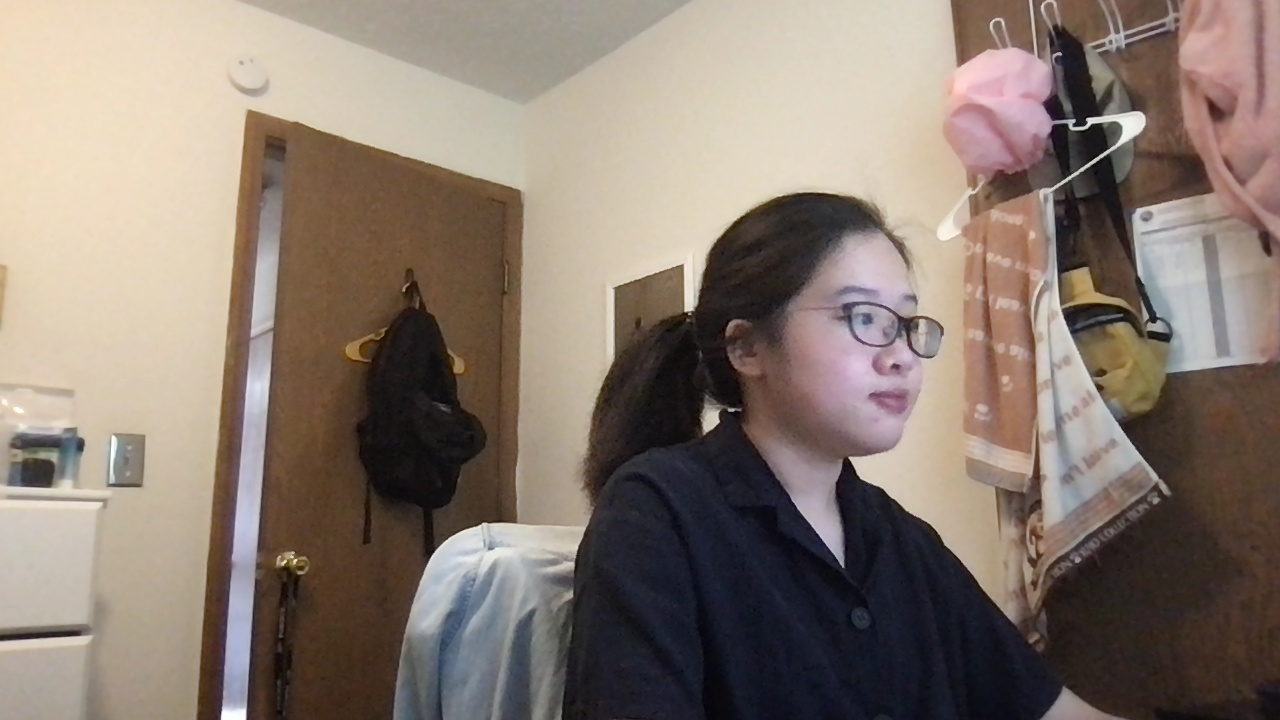NoMask: (746, 341, 951, 452)
